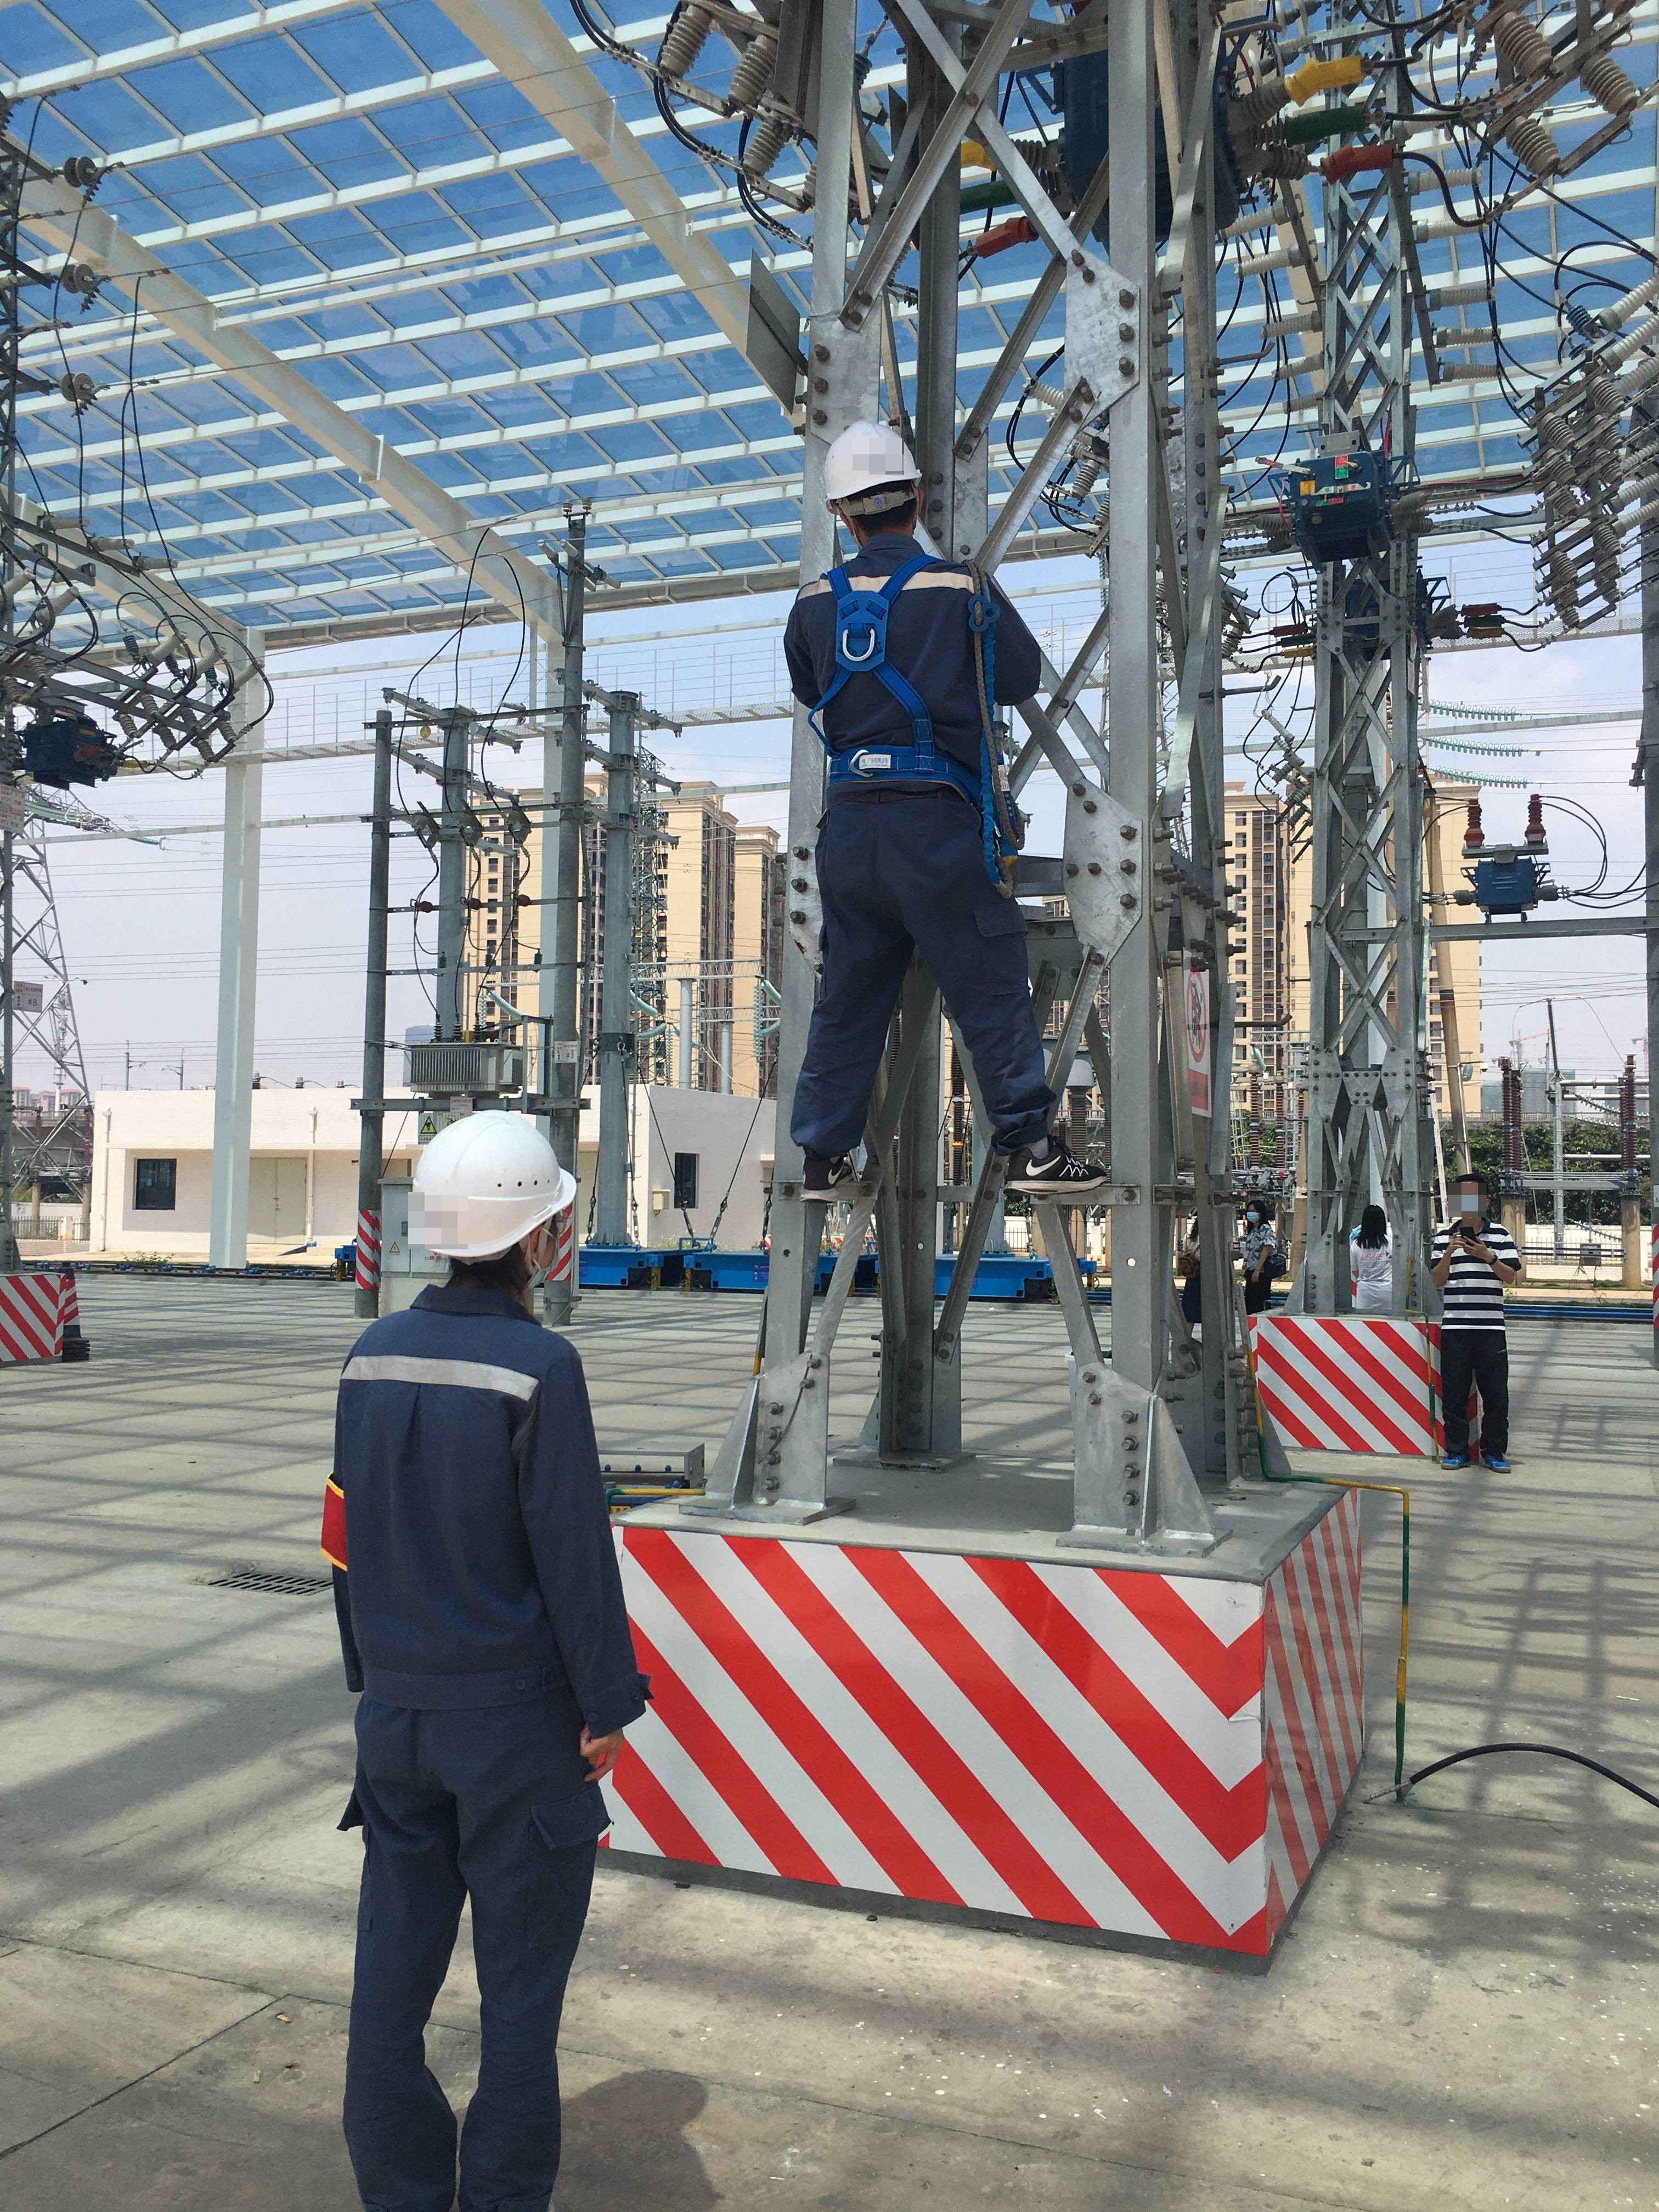downcloth: (1441, 1327, 1509, 1449)
downsuit: (328, 1743, 610, 2212), (791, 805, 1054, 1151)
upcloth: (1431, 1214, 1521, 1322)
upsuit: (312, 1289, 652, 1714), (782, 547, 1044, 777)
